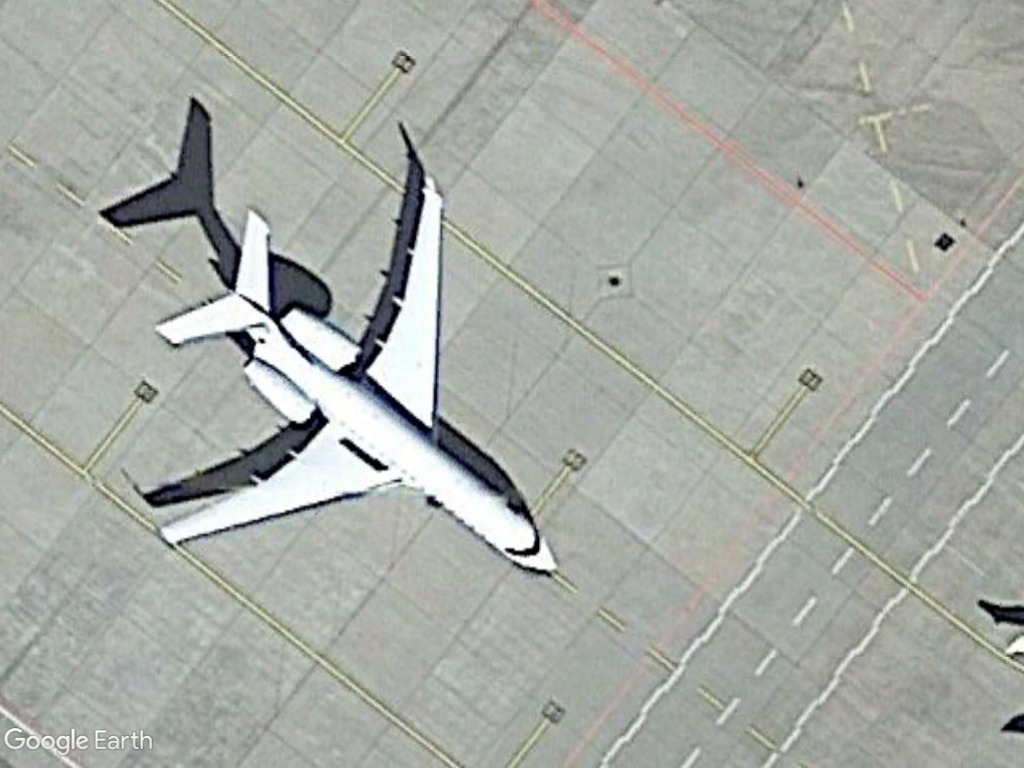chartered: (153, 177, 565, 587)
